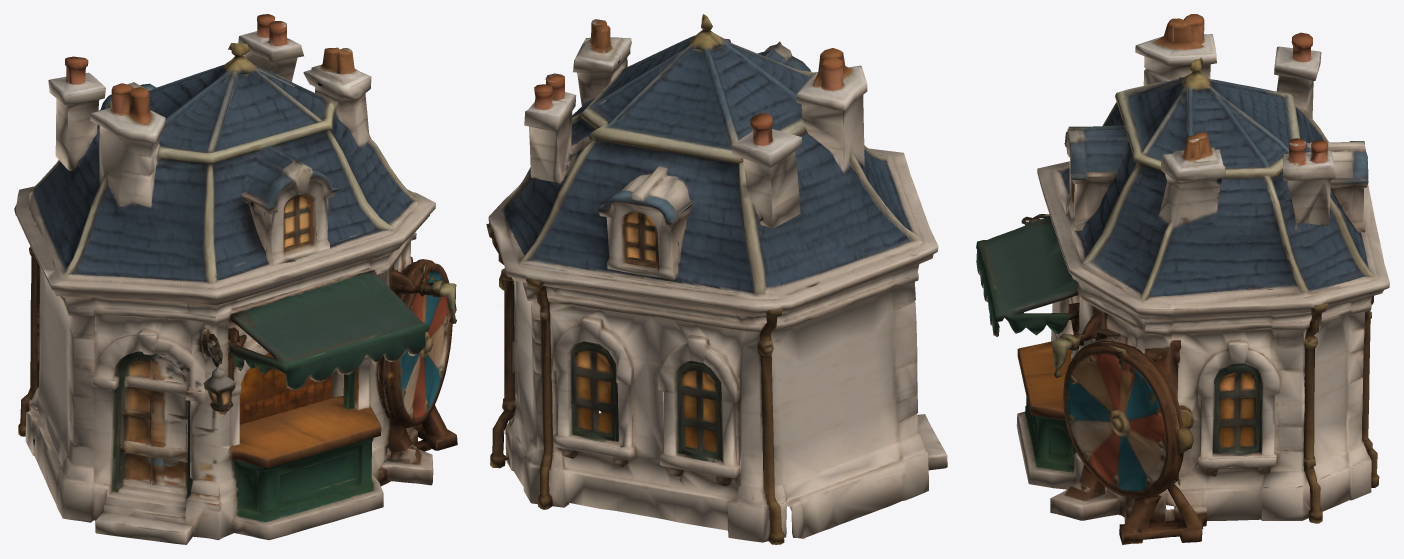
The picture shows the model from 3 angles, left to right: view 1: azimuth 30°, elevation 25°; view 2: azimuth 150°, elevation 25°; view 3: azimuth 270°, elevation 25°; orthographic projection. The views are drawn at different scales.
Parts seen in each view (by area): view 1: classic__chance_wheel__neural_lod, classic__chance_wheel__neural_wheel; view 2: classic__chance_wheel__neural_lod; view 3: classic__chance_wheel__neural_lod, classic__chance_wheel__neural_wheel.
Part boxes in pixels (x1=…): classic__chance_wheel__neural_lod: x1=14, y1=14, x2=457, y2=544; classic__chance_wheel__neural_wheel: x1=383, y1=260, x2=452, y2=437; classic__chance_wheel__neural_lod: x1=486, y1=14, x2=947, y2=544; classic__chance_wheel__neural_lod: x1=976, y1=14, x2=1389, y2=544; classic__chance_wheel__neural_wheel: x1=1063, y1=341, x2=1169, y2=500.
Bounding box in the file's own units: 0.9998 × 0.9905 × 0.9196.
Materials: 1 (1 with a texture image).
